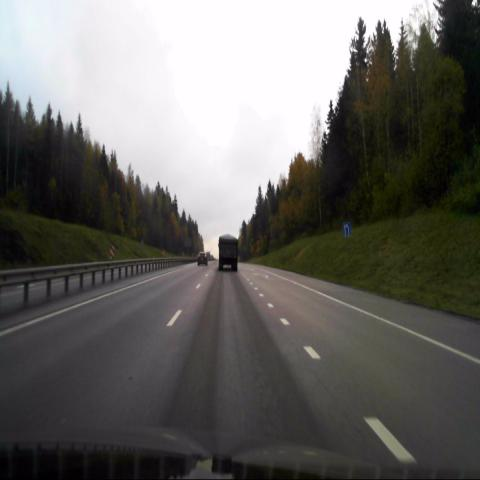5_15_5: (343, 223, 350, 236)
